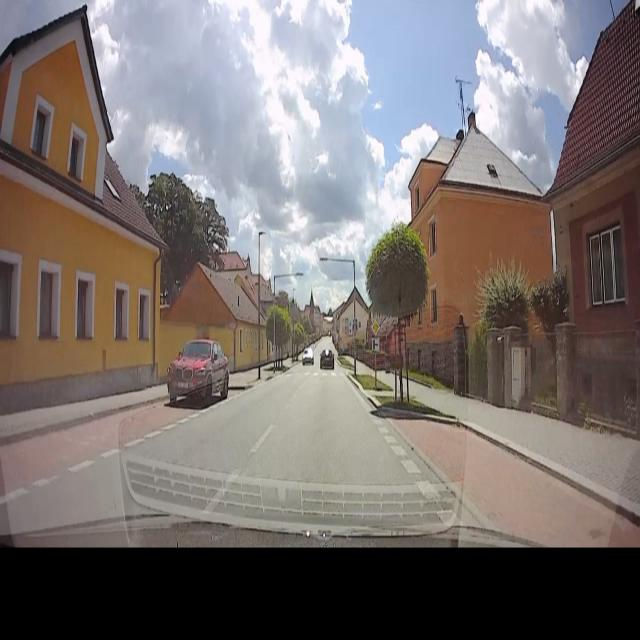Pedestrian crosswalk: (283, 369, 349, 379), (352, 317, 359, 334)
